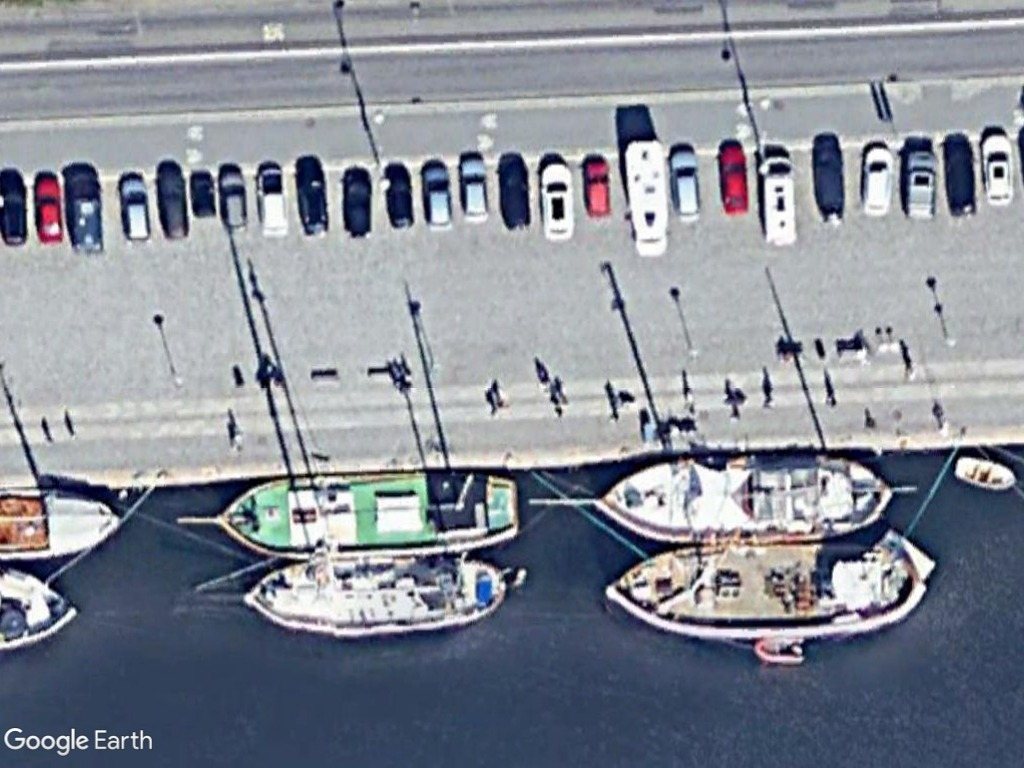boat: (596, 530, 942, 646), (213, 464, 524, 563), (596, 444, 899, 543), (236, 547, 513, 647)
car: (536, 154, 583, 250), (152, 161, 196, 249), (854, 140, 899, 222), (665, 144, 708, 227), (975, 127, 1016, 213), (111, 171, 156, 249), (415, 156, 458, 237), (952, 449, 1021, 497), (712, 137, 752, 219), (454, 150, 494, 227), (31, 167, 68, 250), (215, 163, 253, 240), (579, 150, 616, 223)
van: (899, 144, 943, 226)
